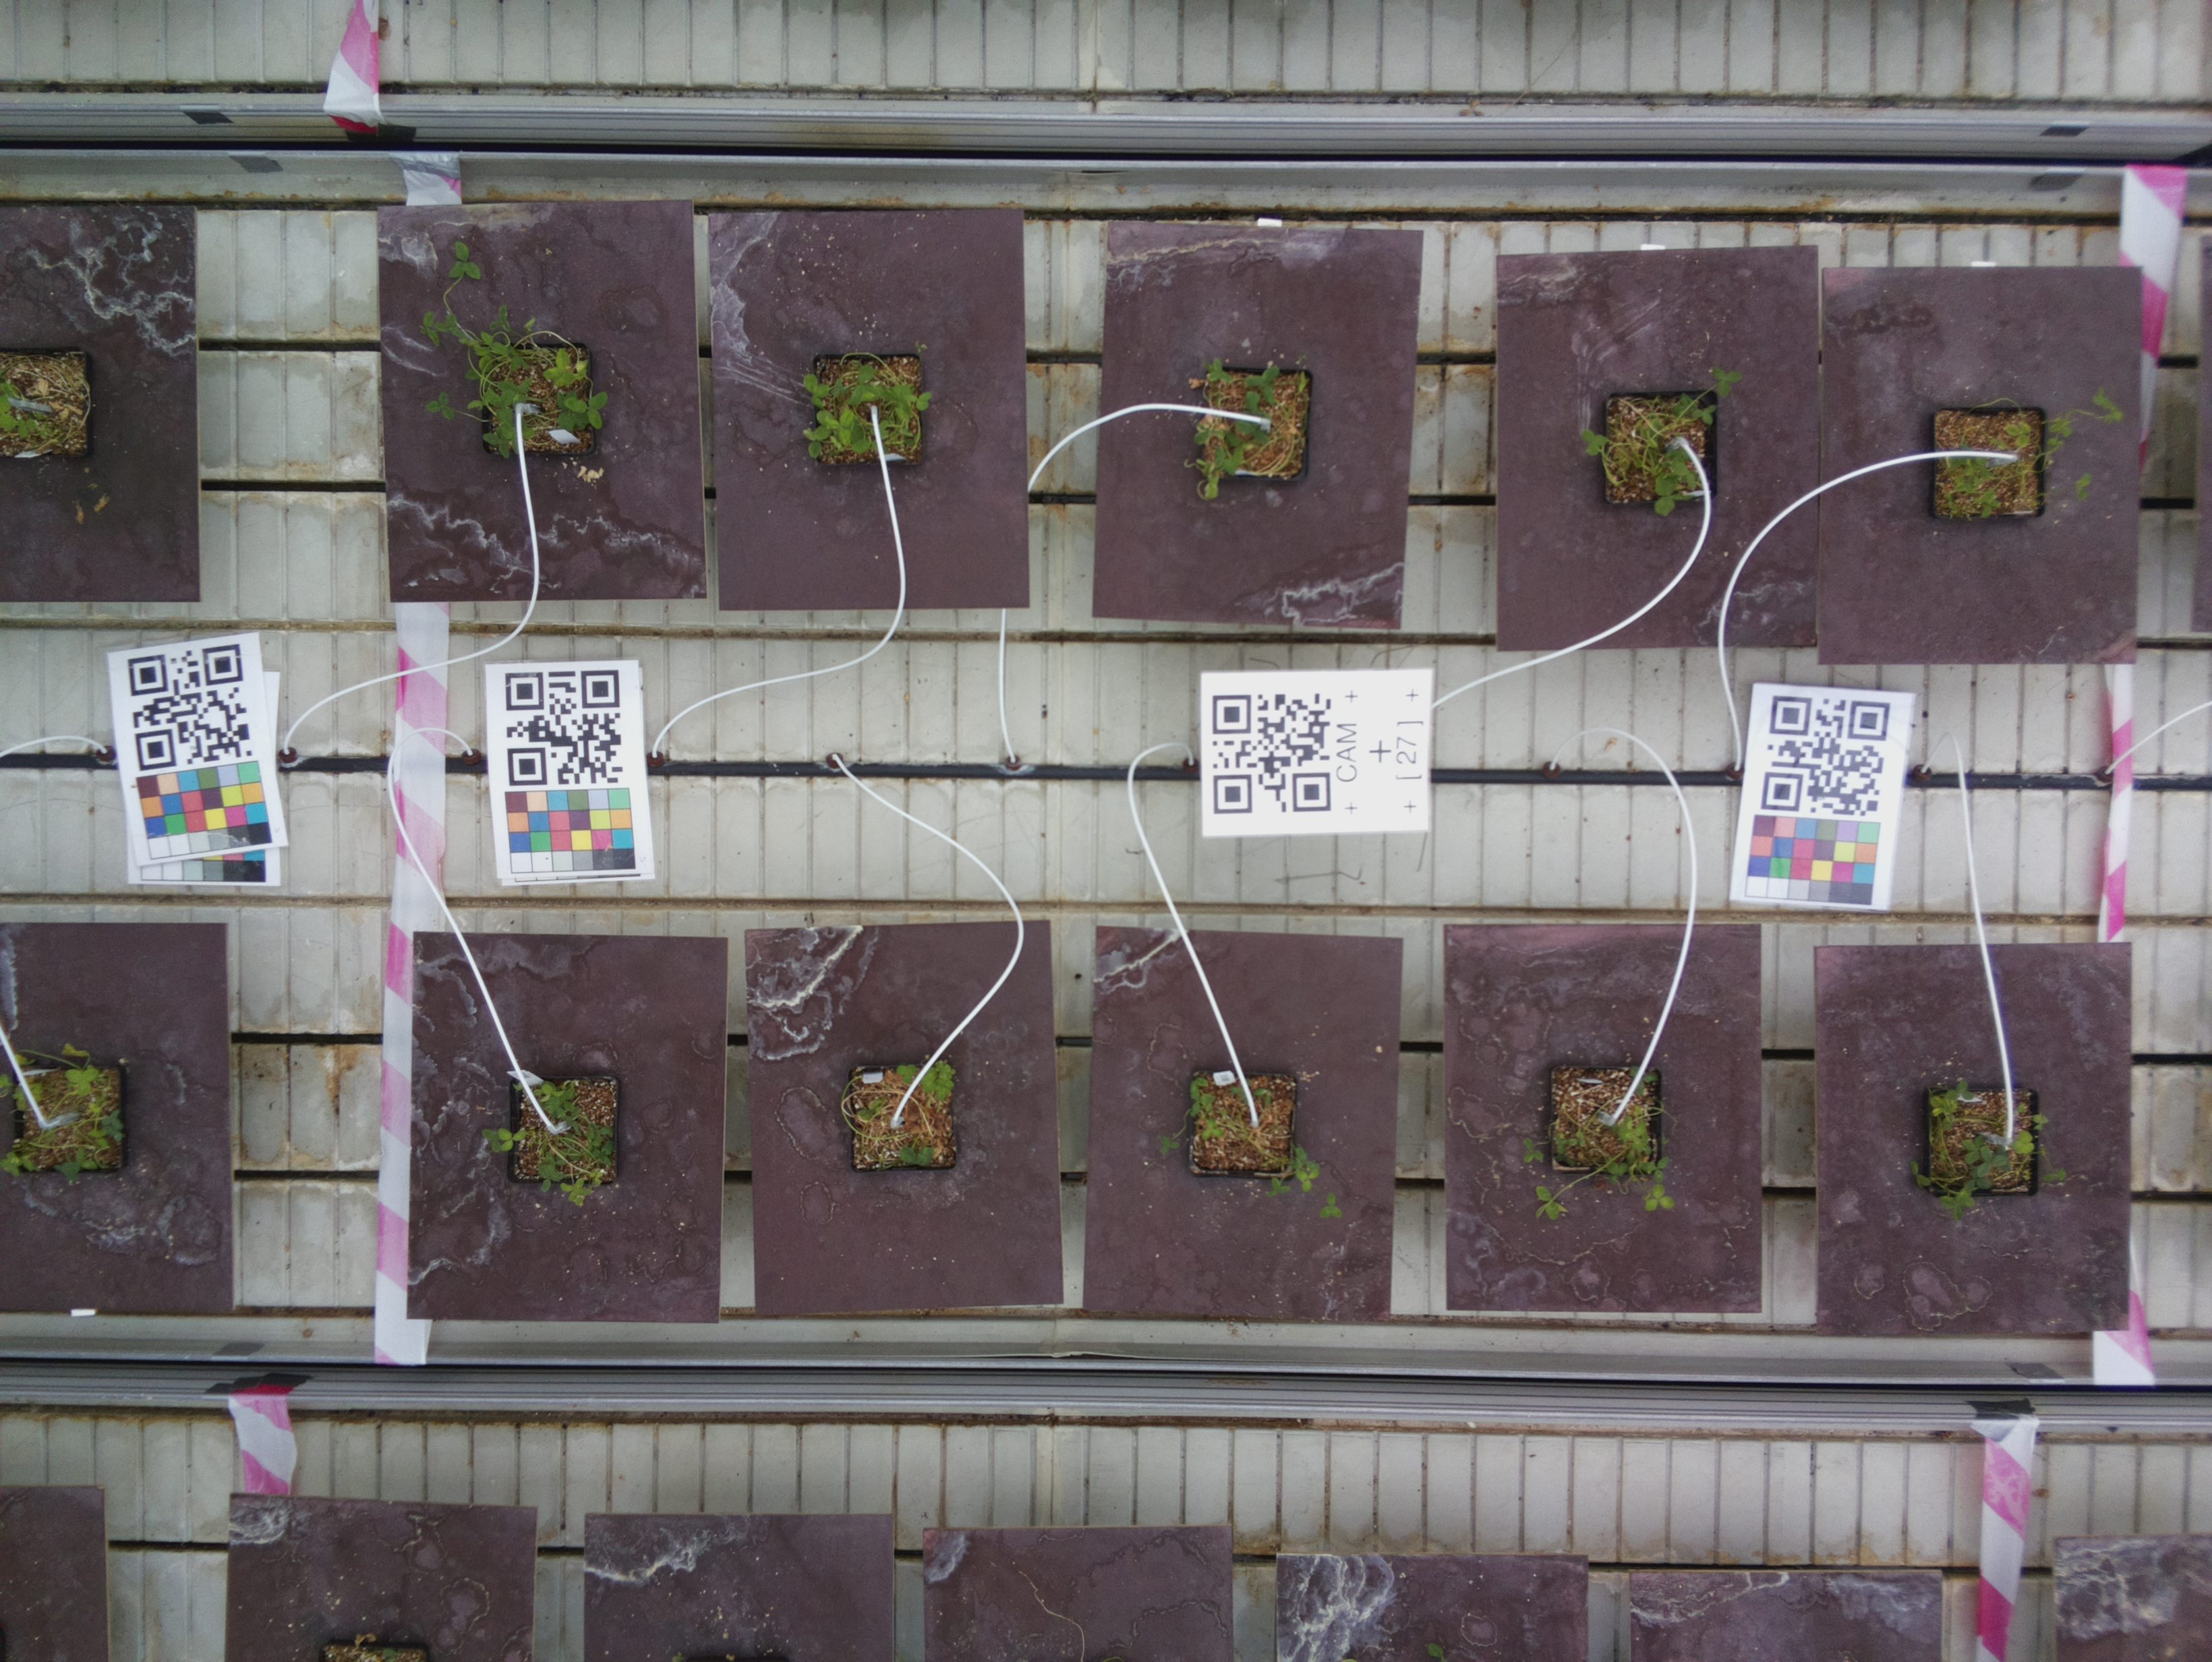POT: (1821, 262, 2147, 670), (379, 204, 712, 599), (1496, 253, 1821, 656), (712, 208, 1032, 613), (1444, 920, 1765, 1320), (1093, 222, 1412, 623), (1810, 941, 2132, 1336), (1088, 924, 1400, 1325), (742, 924, 1068, 1308), (414, 931, 723, 1323)
QRCODE: (1196, 669, 1439, 841)
QRCOLOR: (1728, 683, 1908, 908), (105, 641, 292, 854), (484, 663, 655, 883)
